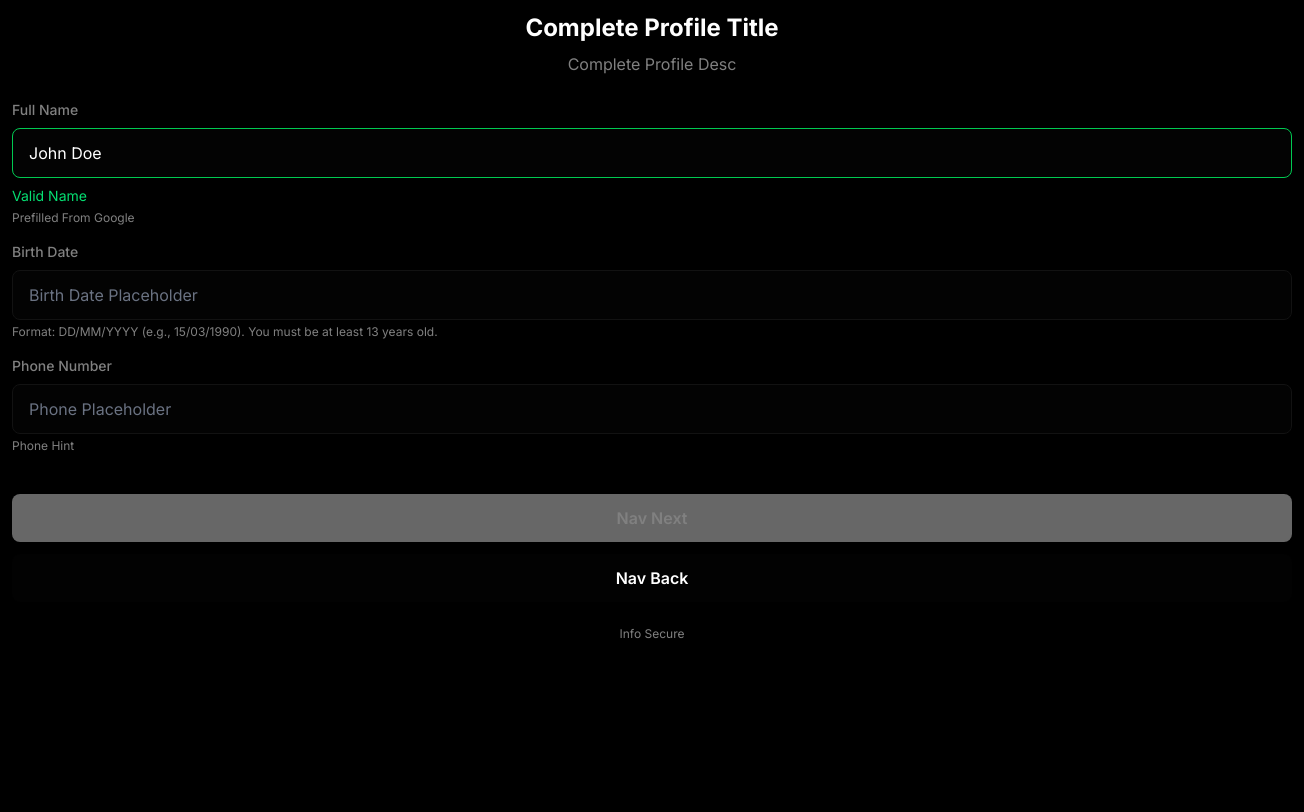
it: GoogleOAuthPersonalInfo › Birth Date Validation › should show error when birth date format is invalid
In the field labelled "Birth Date": (652, 295) x1=12 y1=270 x2=1292 y2=320, type "2000-01-01"
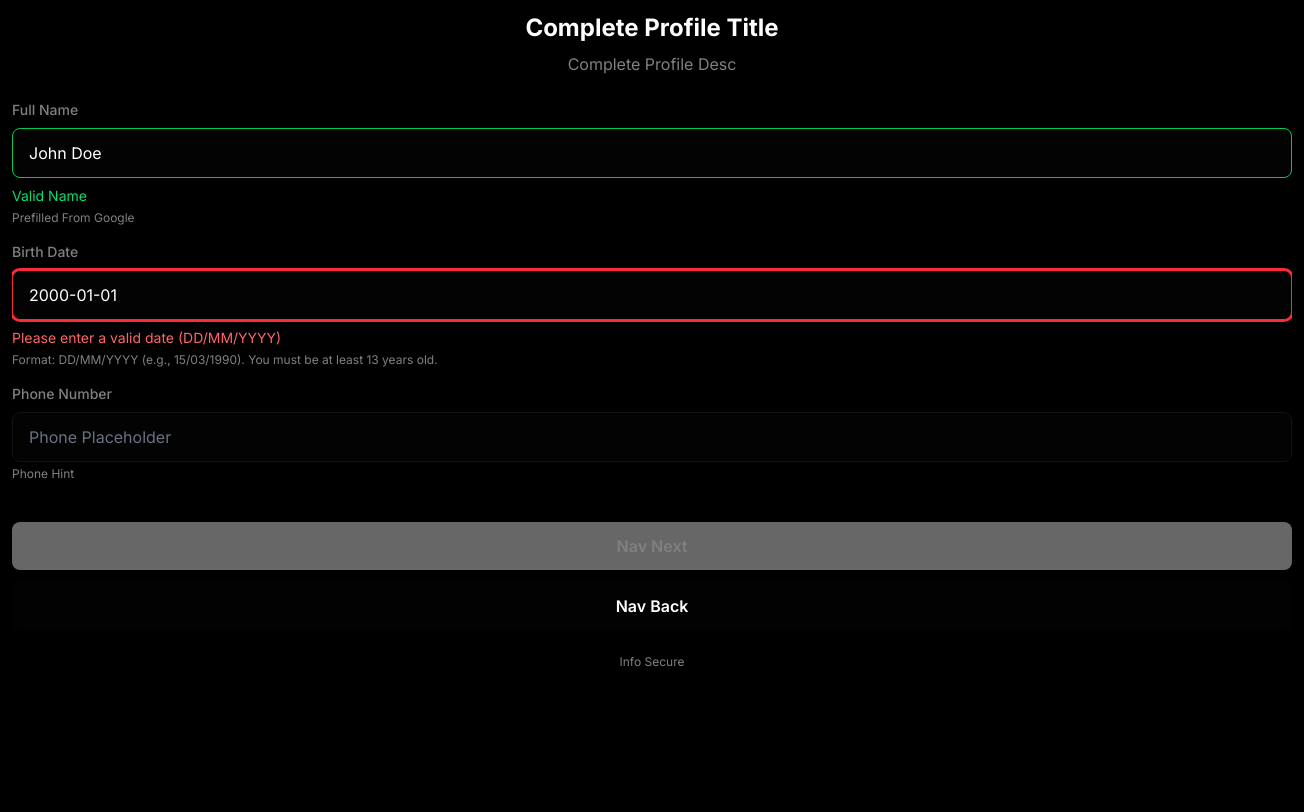
expect the text "Please enter a valid date (DD/MM/YYYY)" is shown: met, box x1=12 y1=329 x2=281 y2=346
